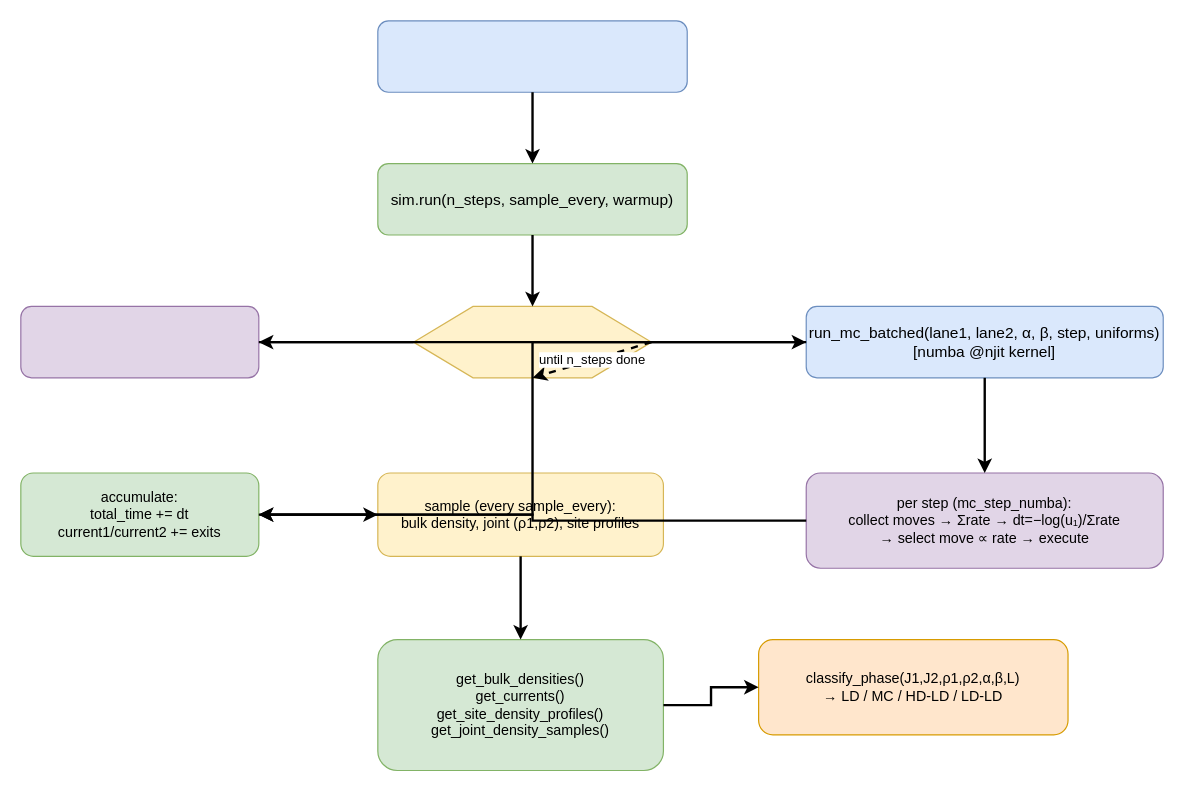
Image size: 1184x791. Some labels were removed from this diagram. Here are the shapes that lost their labels. From the top down, the box of each, then its label:
(377, 20, 687, 92): TwoChannelASEP(L, α, β, seed)
(20, 305, 259, 378): make_uniforms(step, rng) → 2·step uniforms
(412, 305, 652, 378): loop: blocks of 1000 steps
